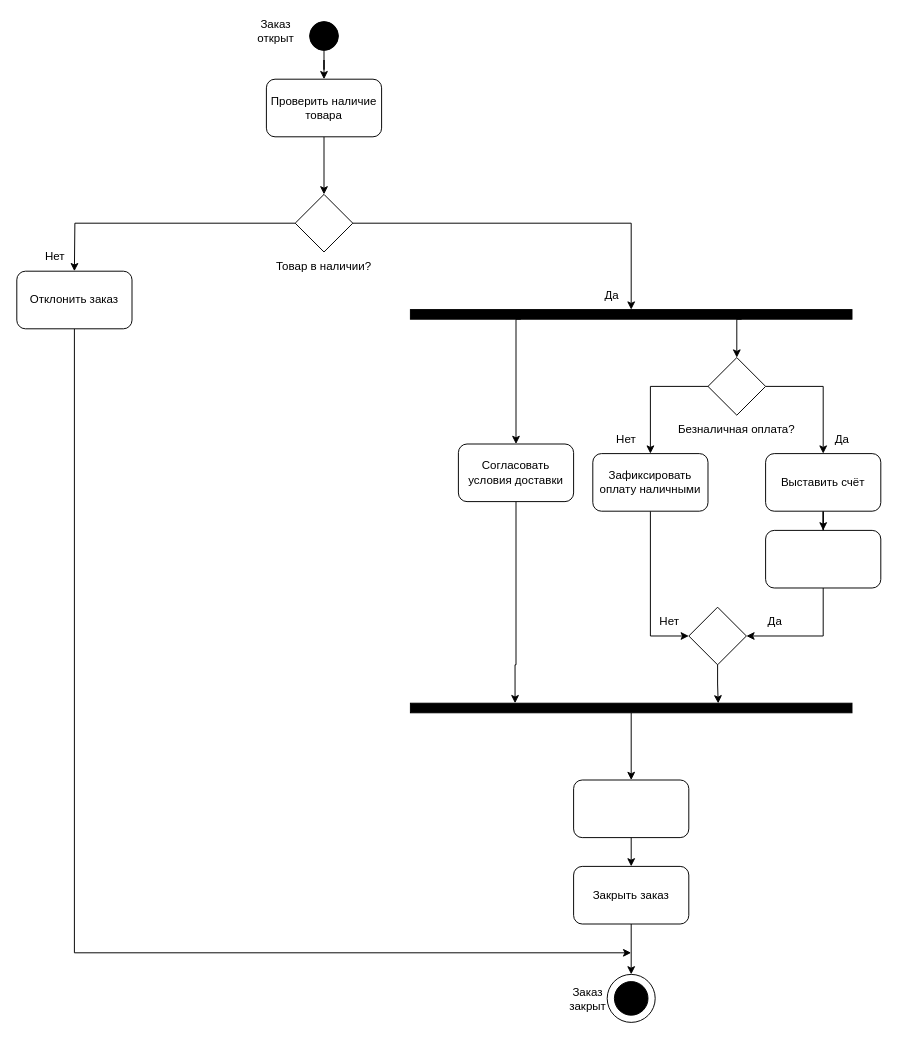
The diagram is 898 pixels wide and 1039 high, and some of its shapes have lost their labels. Each missing label, with the centre of its shape:
"Доставить" belongs at point 631,808.
"Получить оплату" belongs at point 823,558.
